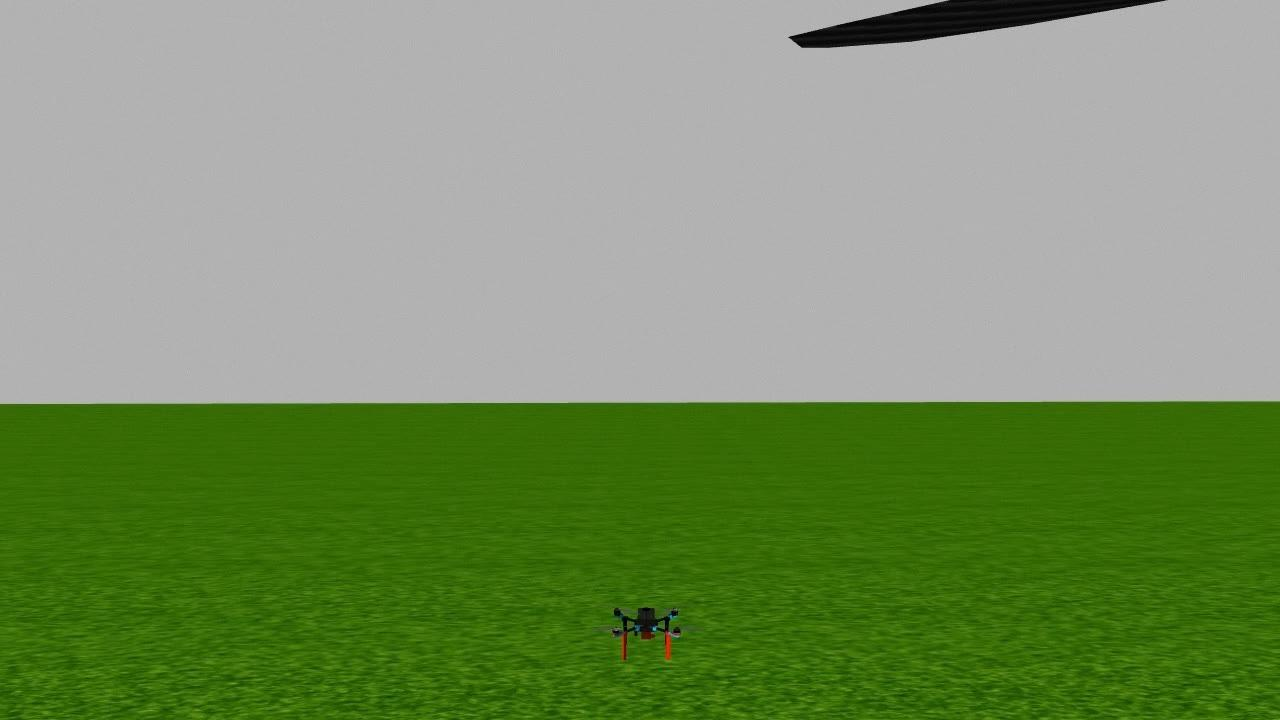UAV: (599, 592, 694, 674)
